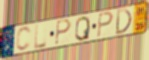C: (15, 26, 33, 52)
D: (115, 8, 133, 36)
L: (33, 23, 47, 51)
P: (54, 19, 72, 47), (96, 12, 114, 40)
Q: (74, 15, 91, 42)
